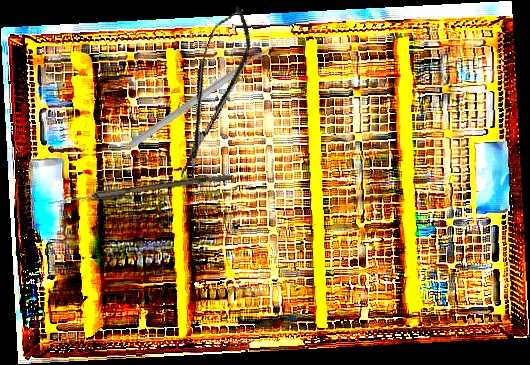Micro Scissor: (161, 1, 263, 185)
Pusher: (127, 38, 281, 151)
Surgical Spoon: (47, 170, 232, 209)
